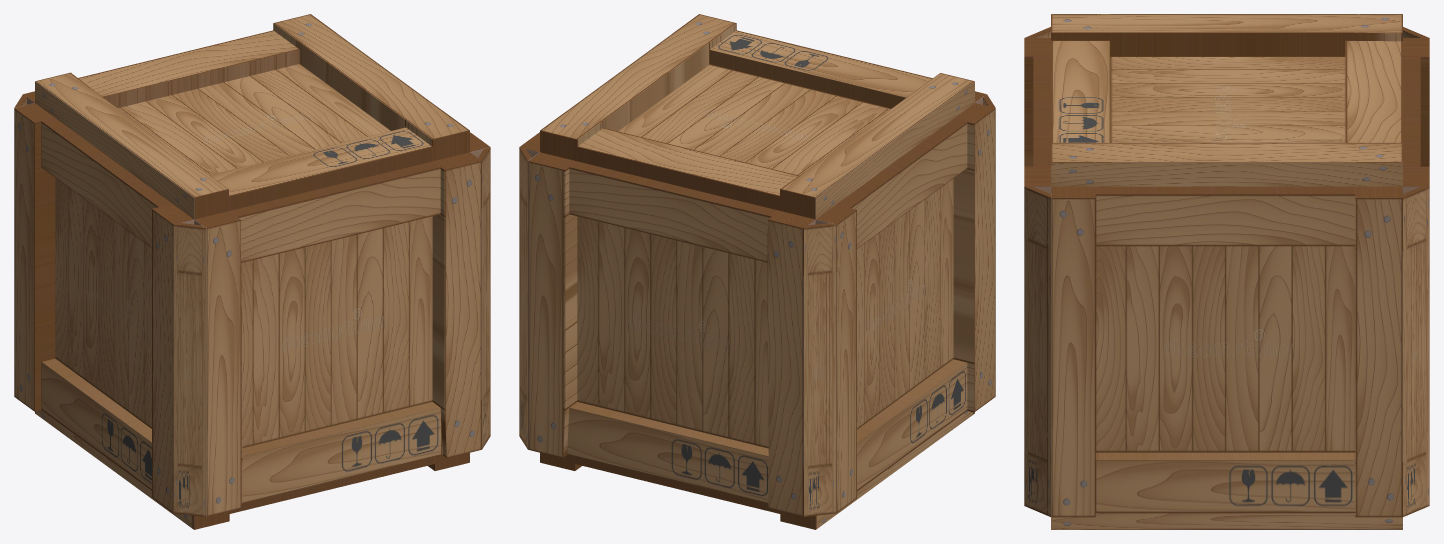
File: Crate.fbx
3 renders of one model, left to right at view 1: azimuth 30°, elevation 25°; view 2: azimuth 150°, elevation 25°; view 3: azimuth 270°, elevation 25°, orthographic. The views are drawn at different scales.
Visible parts, largest first — view 1: Crate; view 2: Crate; view 3: Crate.
Boxes of the visible parts, x1,y1,x2,y2 form: Crate: [14, 14, 490, 529]; Crate: [519, 14, 995, 529]; Crate: [1024, 14, 1429, 529].
Bounding box in the file's own units: 46 × 46 × 46.
1 material, 1 textured.
